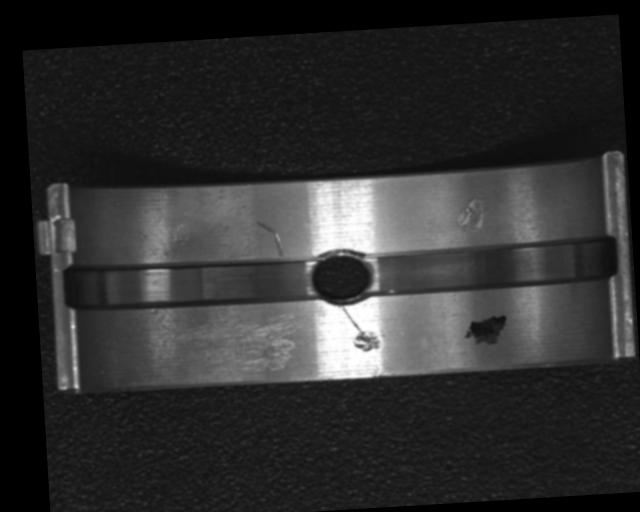blot: (463, 313, 509, 345)
bruise: (453, 193, 487, 233), (349, 328, 382, 352)
gap: (64, 249, 314, 316), (367, 232, 617, 298)
hole: (307, 245, 375, 310)
nick: (255, 219, 284, 257), (338, 302, 366, 337)
scratch: (172, 309, 296, 376)
